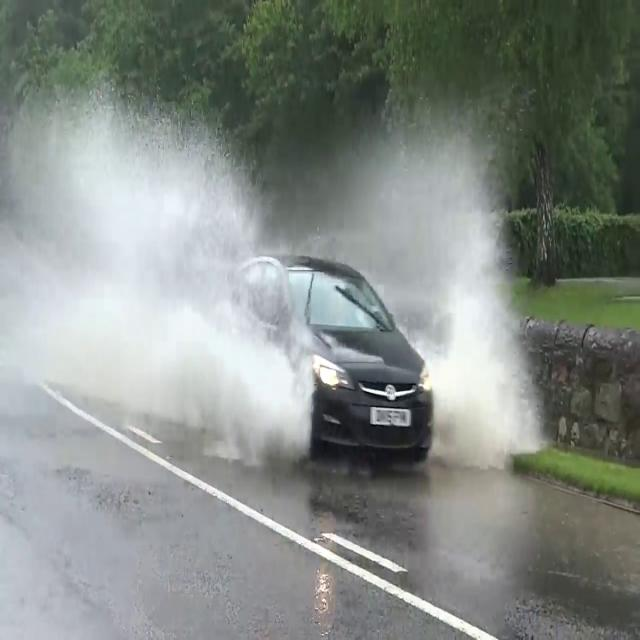license-plate-annotation: (370, 404, 411, 431)
